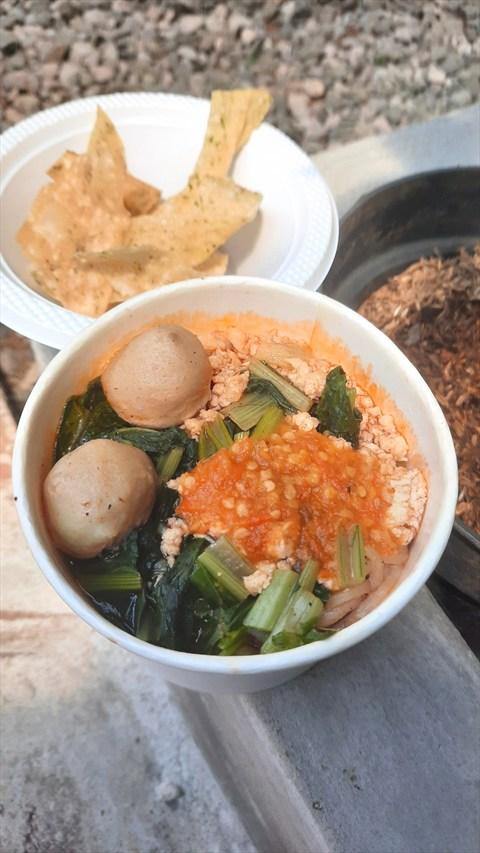Bakso: (31, 112, 428, 684)
